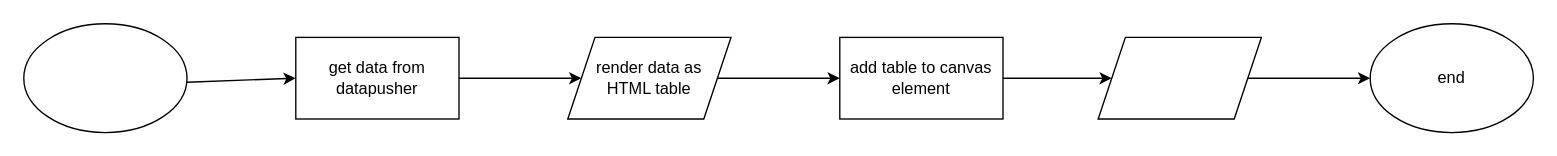
This 1557x156 diagram has some shape labels left out. The shapes that lost their labels are listed below. From the top down, each one's box as (x1, y1, x2, y2) in pixels, then its label:
(22, 22, 187, 133): start
(1097, 36, 1261, 119): save as selected format
